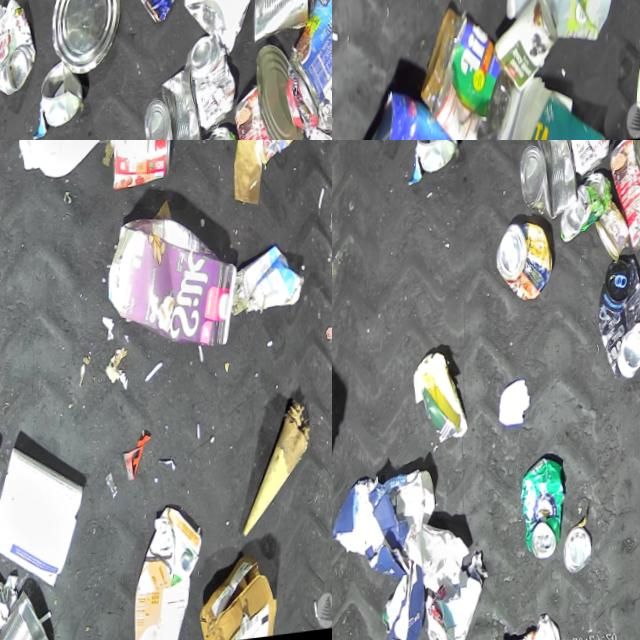can: (493, 0, 566, 105), (47, 0, 123, 81), (516, 140, 583, 228), (595, 261, 640, 389), (183, 37, 240, 138), (284, 0, 332, 118), (520, 461, 572, 568), (496, 223, 557, 309), (253, 46, 308, 140), (141, 67, 208, 140), (605, 140, 640, 260), (559, 176, 614, 249), (230, 85, 302, 140), (109, 140, 176, 199), (0, 0, 39, 100), (38, 61, 86, 129), (250, 0, 312, 51), (0, 591, 60, 640), (241, 140, 309, 178), (593, 205, 633, 269), (558, 140, 614, 183), (137, 0, 194, 32), (413, 140, 460, 174), (567, 531, 598, 580), (305, 0, 332, 29)
milk_jug: (506, 0, 624, 62), (13, 140, 130, 189)
non_white_jug: (106, 211, 243, 367), (132, 508, 210, 640)
